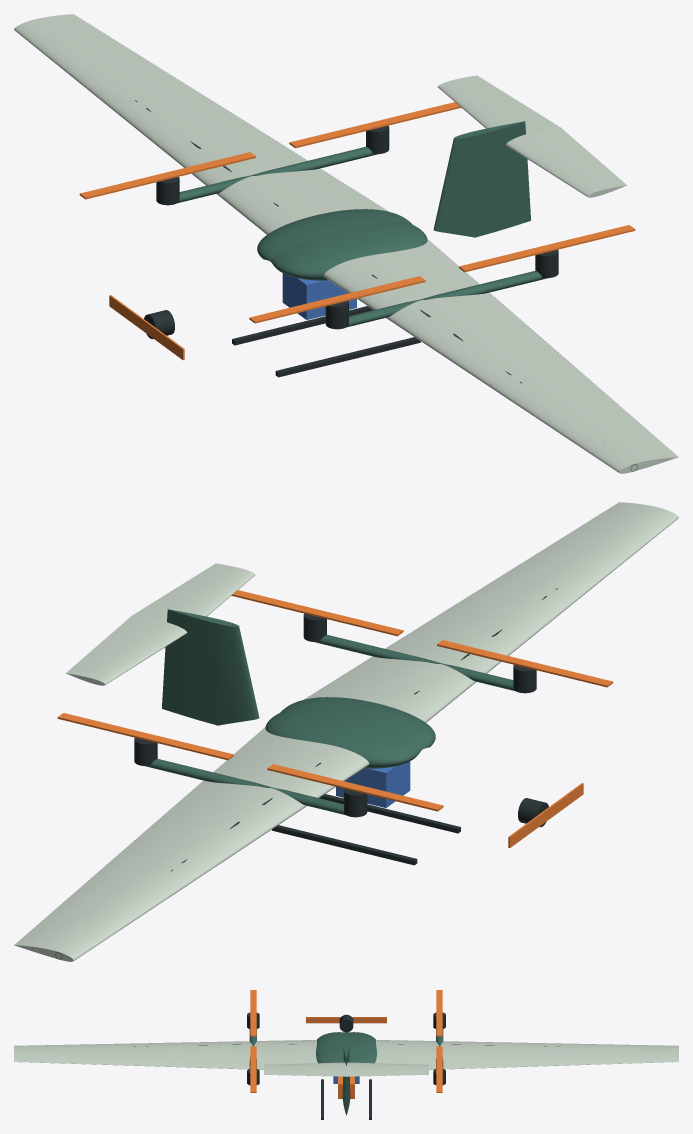
The model's file is control-08-internal.glb.
The picture shows the model from 3 angles, top to bottom: view 1: azimuth 30°, elevation 25°; view 2: azimuth 150°, elevation 25°; view 3: azimuth 270°, elevation 25°; orthographic projection. The views are drawn at different scales.
Visible parts, largest first — view 1: wing-1, wing1, fin, root_fairing-1, tail-1, tail1, root_fairing1, payload, boom_fairing-1, boom_fairing1, prop_-1_200.0, prop_-1_700.0 (+5 smaller); view 2: wing1, wing-1, fin, root_fairing1, tail1, tail-1, root_fairing-1, payload, boom_fairing1, boom_fairing-1, prop_1_200.0, prop_-1_200.0 (+5 smaller); view 3: wing-1, wing1, tail1, tail-1, root_fairing-1, root_fairing1, cruise_prop, fin, prop_-1_200.0, prop_-1_700.0, prop_1_200.0, prop_1_700.0 (+2 smaller).
Part boxes in pixels (x1=…): wing-1: x1=323, y1=239, x2=678, y2=473; wing1: x1=14, y1=14, x2=389, y2=234; fin: x1=433, y1=121, x2=530, y2=237; root_fairing-1: x1=271, y1=222, x2=427, y2=280; tail-1: x1=506, y1=127, x2=626, y2=197; tail1: x1=437, y1=75, x2=560, y2=133; root_fairing1: x1=257, y1=209, x2=412, y2=261; payload: x1=282, y1=273, x2=356, y2=319; boom_fairing-1: x1=347, y1=270, x2=548, y2=327; boom_fairing1: x1=177, y1=146, x2=378, y2=203; prop_-1_200.0: x1=249, y1=276, x2=425, y2=323; prop_-1_700.0: x1=459, y1=225, x2=635, y2=272; wing1: x1=14, y1=727, x2=369, y2=961; wing-1: x1=303, y1=502, x2=678, y2=722; fin: x1=162, y1=609, x2=259, y2=725; root_fairing1: x1=265, y1=710, x2=421, y2=768; tail1: x1=66, y1=615, x2=187, y2=685; tail-1: x1=132, y1=563, x2=255, y2=621; root_fairing-1: x1=280, y1=697, x2=435, y2=749; payload: x1=336, y1=761, x2=410, y2=807; boom_fairing1: x1=145, y1=758, x2=345, y2=815; boom_fairing-1: x1=314, y1=634, x2=515, y2=691; prop_1_200.0: x1=267, y1=764, x2=443, y2=811; prop_-1_200.0: x1=437, y1=640, x2=613, y2=687; wing-1: x1=14, y1=1040, x2=317, y2=1069; wing1: x1=375, y1=1040, x2=678, y2=1069; tail1: x1=346, y1=1062, x2=428, y2=1076; tail-1: x1=264, y1=1062, x2=346, y2=1076; root_fairing-1: x1=316, y1=1032, x2=346, y2=1063; root_fairing1: x1=346, y1=1032, x2=376, y2=1063; cruise_prop: x1=306, y1=1017, x2=386, y2=1023; fin: x1=342, y1=1040, x2=350, y2=1115; prop_-1_200.0: x1=250, y1=990, x2=256, y2=1036; prop_-1_700.0: x1=250, y1=1046, x2=256, y2=1092; prop_1_200.0: x1=436, y1=990, x2=442, y2=1036; prop_1_700.0: x1=436, y1=1046, x2=442, y2=1092.
Bounding box in the file's own units: 989 × 395 × 2500.
